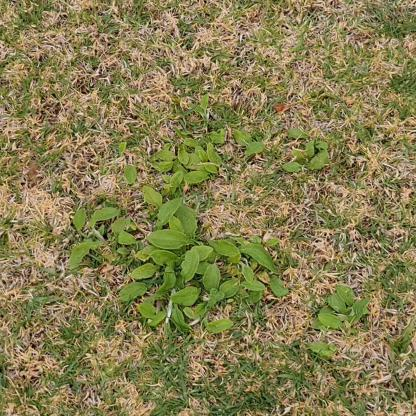Weeds: (69, 94, 289, 333), (308, 285, 372, 358), (233, 129, 329, 174)
